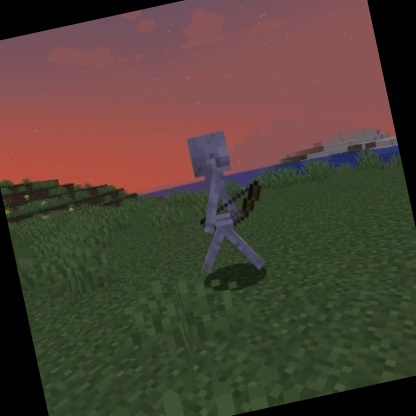skeleton: (171, 121, 282, 286)
